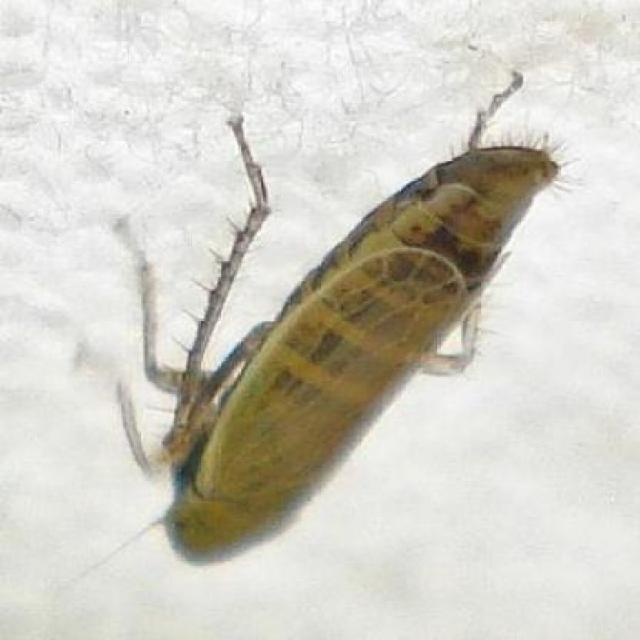green-leafhopper: (162, 126, 558, 565)
